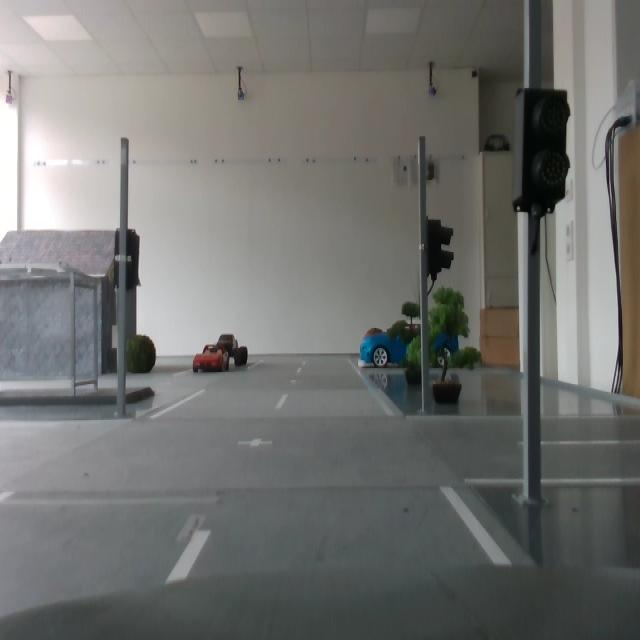car: (357, 322, 462, 372), (211, 333, 251, 368), (191, 345, 232, 376)
potted plant: (408, 286, 485, 403), (388, 302, 424, 385), (122, 333, 158, 377), (362, 327, 385, 365)
traffic light: (512, 86, 571, 217), (112, 229, 144, 293), (426, 217, 455, 281)
